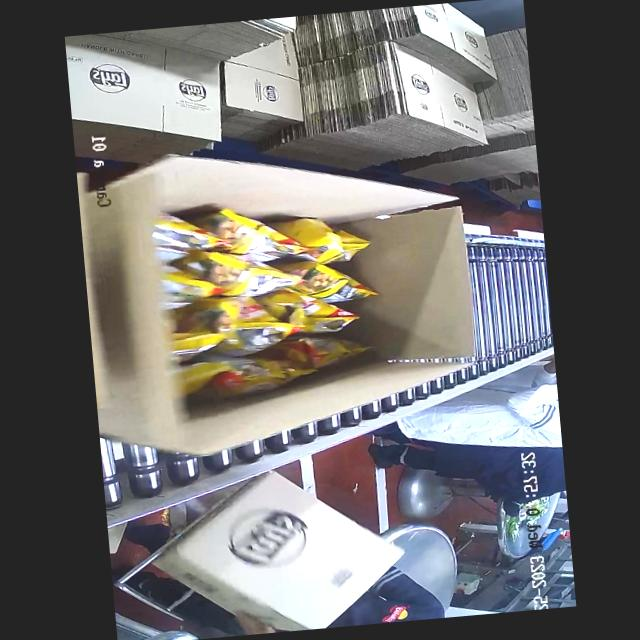salted: (155, 224, 405, 380)
